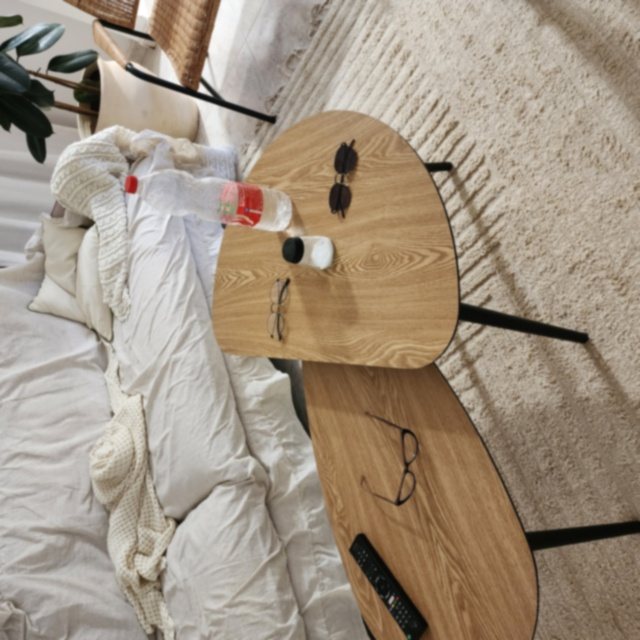glasses: (356, 406, 420, 508), (327, 137, 364, 221), (265, 277, 298, 343)
